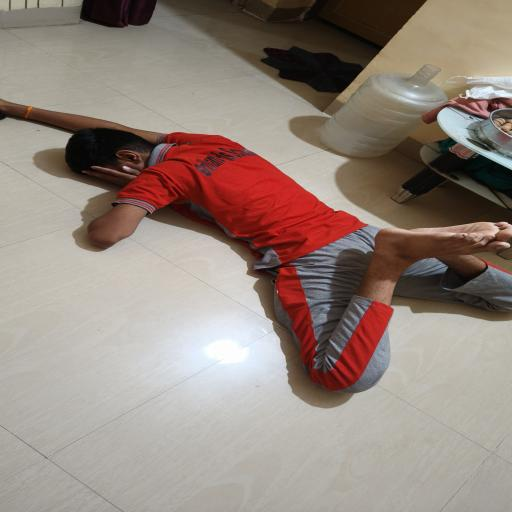survivor: (0, 97, 512, 395)
